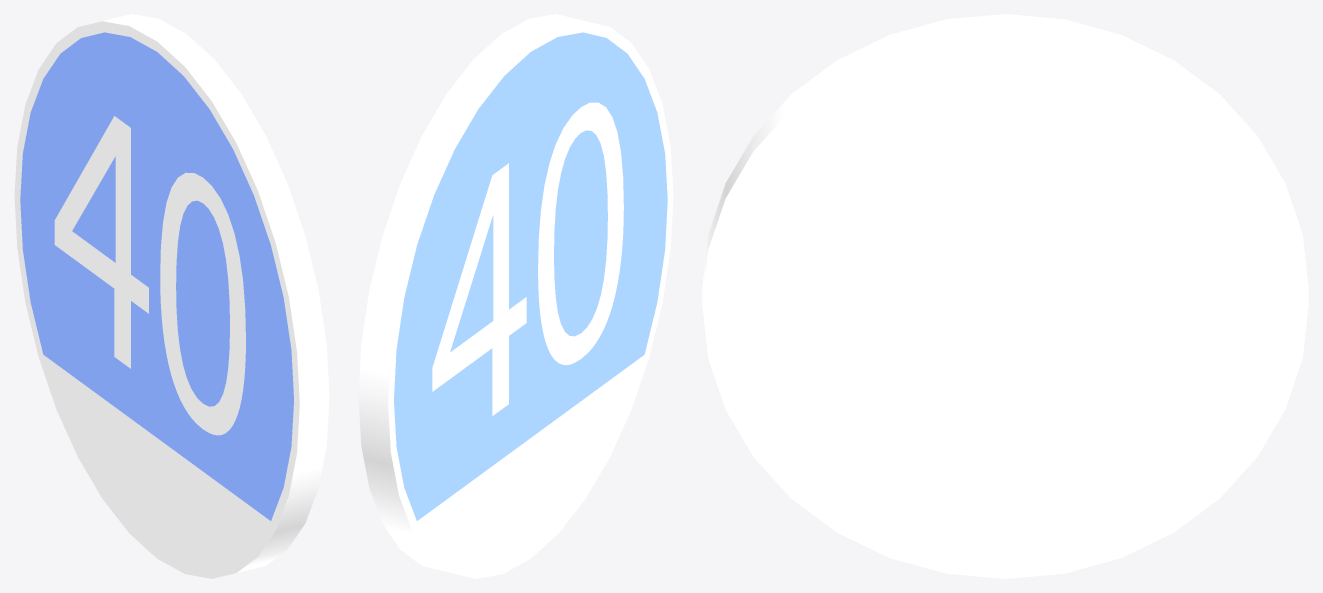
File: Minimum_Speed_Limit_40.glb
3 renders of one model, left to right at view 1: azimuth 30°, elevation 25°; view 2: azimuth 150°, elevation 25°; view 3: azimuth 270°, elevation 25°, orthographic. The views are drawn at different scales.
Visible parts, largest first — view 1: Minimum_Speed_Limit_40; view 2: Minimum_Speed_Limit_40; view 3: Minimum_Speed_Limit_40.
Boxes of the visible parts, bbox=[...] form: Minimum_Speed_Limit_40: bbox=[14, 14, 329, 578]; Minimum_Speed_Limit_40: bbox=[358, 14, 673, 578]; Minimum_Speed_Limit_40: bbox=[702, 14, 1308, 578].
Size of the model in its own units: 0.0643 by 1 by 1.
